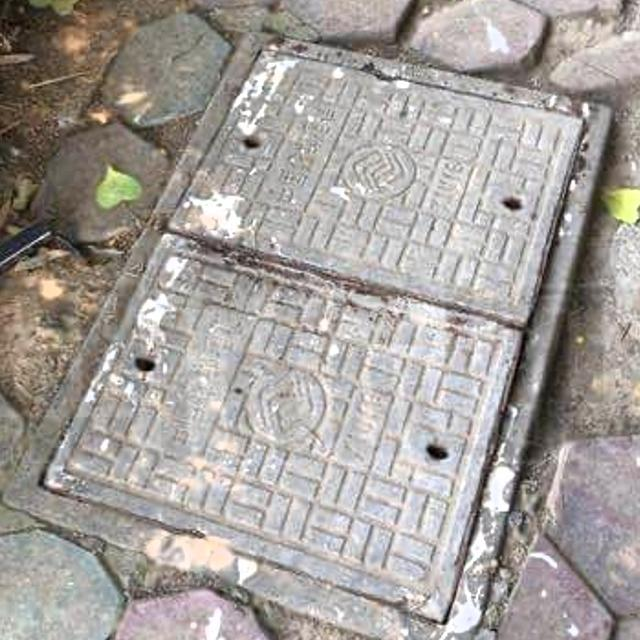good: (1, 28, 609, 640)
